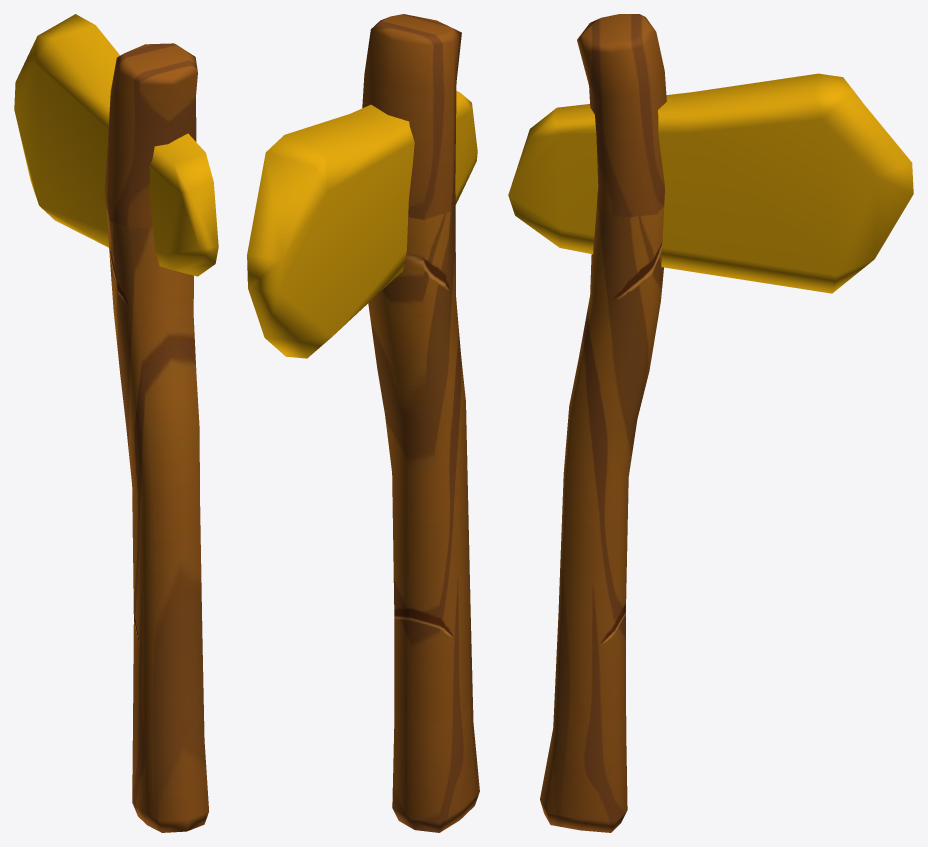
The model's file is legendary_axe.fbx.
3 renders of one model, left to right at view 1: azimuth 30°, elevation 25°; view 2: azimuth 150°, elevation 25°; view 3: azimuth 270°, elevation 25°, orthographic. The views are drawn at different scales.
Visible parts, largest first — view 1: bou__mTool.003; view 2: bou__mTool.003; view 3: bou__mTool.003.
Part boxes in pixels (x1,y1,x2,y2): bou__mTool.003: (14, 14, 218, 832); bou__mTool.003: (247, 14, 479, 832); bou__mTool.003: (508, 14, 913, 832).
Bounding box in the file's own units: 2.43 × 20.98 × 9.66.
Materials: 2 (1 with a texture image).
